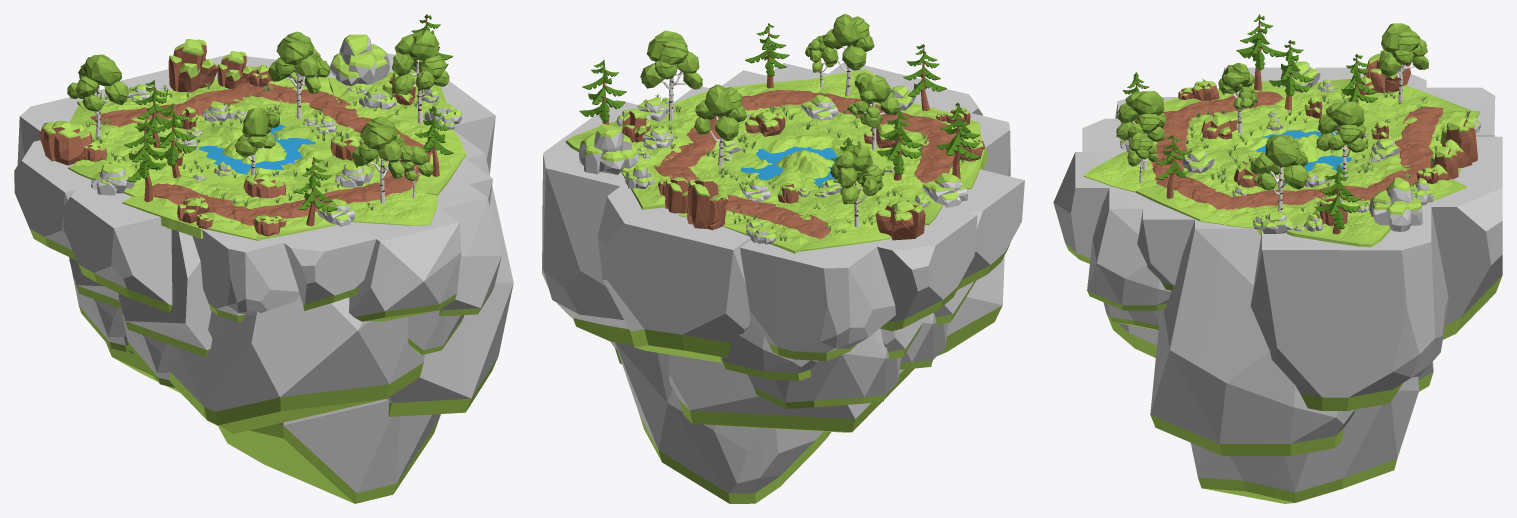
The model's file is TestScene.glb.
3 views of the same model, side by side, from view 1: azimuth 30°, elevation 25°; view 2: azimuth 150°, elevation 25°; view 3: azimuth 270°, elevation 25° (orthographic). The views are drawn at different scales.
Visible parts, largest first — view 1: PP_Rock_Moss_Grown_11 (23), PP_Rock_Moss_Grown_11 (17), PP_Rock_Moss_Grown_11 (25), PP_Rock_Moss_Grown_11 (21), PP_Rock_Moss_Grown_11 (26), PP_Lake_Ground_04, PP_Birch_Tree_06 (1), PP_Meadow_Path_05 (11), PP_Birch_Tree_06 (3), PP_Birch_Tree_06 (2), PP_Birch_Tree_06, PP_Rock_Moss_Grown_09 (5) (+34 smaller); view 2: PP_Rock_Moss_Grown_11 (23), PP_Rock_Moss_Grown_11 (26), PP_Rock_Moss_Grown_11 (25), PP_Lake_Ground_04, PP_Birch_Tree_06 (1), PP_Rock_Moss_Grown_11 (21), PP_Meadow_Path_05 (3), PP_Meadow_08 (5), PP_Rock_Moss_Grown_09 (5), PP_Birch_Tree_06 (3), PP_Birch_Tree_06 (2), PP_Birch_Tree_06 (+33 smaller); view 3: PP_Rock_Moss_Grown_11 (23), PP_Rock_Moss_Grown_11 (17), PP_Meadow_Path_05 (7), PP_Birch_Tree_06 (1), PP_Lake_Ground_04, PP_Rock_Moss_Grown_11 (26), PP_Meadow_07, PP_Birch_Tree_06 (2), PP_Birch_Tree_06, PP_Birch_Tree_06 (3), PP_Rock_Moss_Grown_09 (5), PP_Meadow_Path_05 (5) (+31 smaller).
Part boxes in pixels (left/top/right/bottom): PP_Rock_Moss_Grown_11 (23): left=106, top=53, right=513, bottom=503; PP_Rock_Moss_Grown_11 (17): left=349, top=158, right=501, bottom=354; PP_Rock_Moss_Grown_11 (25): left=63, top=177, right=212, bottom=387; PP_Rock_Moss_Grown_11 (21): left=192, top=222, right=376, bottom=321; PP_Rock_Moss_Grown_11 (26): left=14, top=89, right=131, bottom=351; PP_Lake_Ground_04: left=176, top=107, right=335, bottom=185; PP_Birch_Tree_06 (1): left=392, top=30, right=449, bottom=123; PP_Meadow_Path_05 (11): left=122, top=175, right=230, bottom=238; PP_Birch_Tree_06 (3): left=351, top=116, right=413, bottom=203; PP_Birch_Tree_06 (2): left=268, top=31, right=330, bottom=118; PP_Birch_Tree_06: left=67, top=54, right=129, bottom=137; PP_Rock_Moss_Grown_09 (5): left=330, top=34, right=390, bottom=86; PP_Rock_Moss_Grown_11 (23): left=542, top=86, right=1004, bottom=503; PP_Rock_Moss_Grown_11 (26): left=719, top=212, right=977, bottom=408; PP_Rock_Moss_Grown_11 (25): left=899, top=169, right=1024, bottom=369; PP_Lake_Ground_04: left=699, top=133, right=892, bottom=203; PP_Birch_Tree_06 (1): left=640, top=30, right=702, bottom=120; PP_Rock_Moss_Grown_11 (21): left=909, top=82, right=1010, bottom=176; PP_Meadow_Path_05 (3): left=722, top=199, right=833, bottom=253; PP_Meadow_08 (5): left=775, top=201, right=890, bottom=251; PP_Rock_Moss_Grown_09 (5): left=579, top=123, right=638, bottom=174; PP_Birch_Tree_06 (3): left=821, top=14, right=874, bottom=95; PP_Birch_Tree_06 (2): left=694, top=84, right=746, bottom=165; PP_Birch_Tree_06: left=830, top=143, right=883, bottom=227; PP_Rock_Moss_Grown_11 (23): left=1103, top=136, right=1502, bottom=503; PP_Rock_Moss_Grown_11 (17): left=1053, top=151, right=1195, bottom=329; PP_Meadow_Path_05 (7): left=1135, top=167, right=1249, bottom=221; PP_Birch_Tree_06 (1): left=1250, top=134, right=1308, bottom=211; PP_Lake_Ground_04: left=1221, top=118, right=1377, bottom=184; PP_Rock_Moss_Grown_11 (26): left=1315, top=67, right=1495, bottom=136; PP_Meadow_07: left=1286, top=197, right=1390, bottom=247; PP_Birch_Tree_06 (2): left=1316, top=101, right=1366, bottom=176; PP_Birch_Tree_06: left=1379, top=23, right=1428, bottom=101; PP_Birch_Tree_06 (3): left=1116, top=90, right=1166, bottom=169; PP_Rock_Moss_Grown_09 (5): left=1369, top=177, right=1422, bottom=231; PP_Meadow_Path_05 (5): left=1223, top=183, right=1306, bottom=225.
Size of the model in its own units: 142 by 141 by 148.
1 material, 1 textured.
